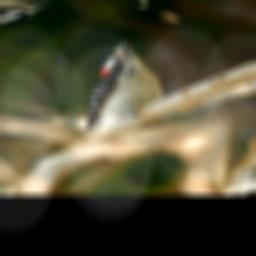Woodpecker: (0, 34, 207, 158)
